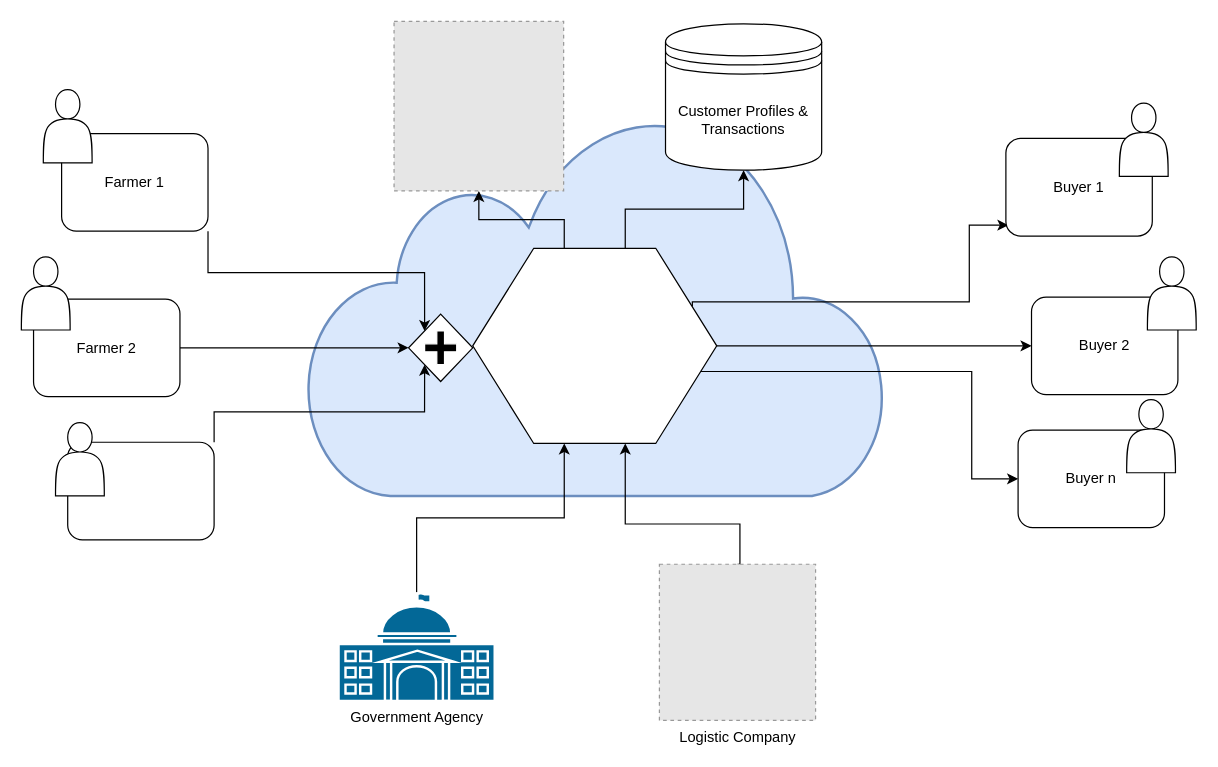
The diagram is 1218 pixels wide and 767 high, and some of its shapes have lost their labels. Grey dashed boxes stand in for pictures. The box of each missing label's shape, as (x1, y1, x2, y2) in pixels:
Farmer n: (66, 441, 214, 540)
Meat & Wine Online Marketplace & Export Service: (472, 247, 717, 443)
